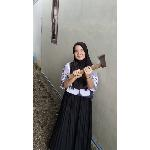Kapak: (67, 50, 113, 80)
